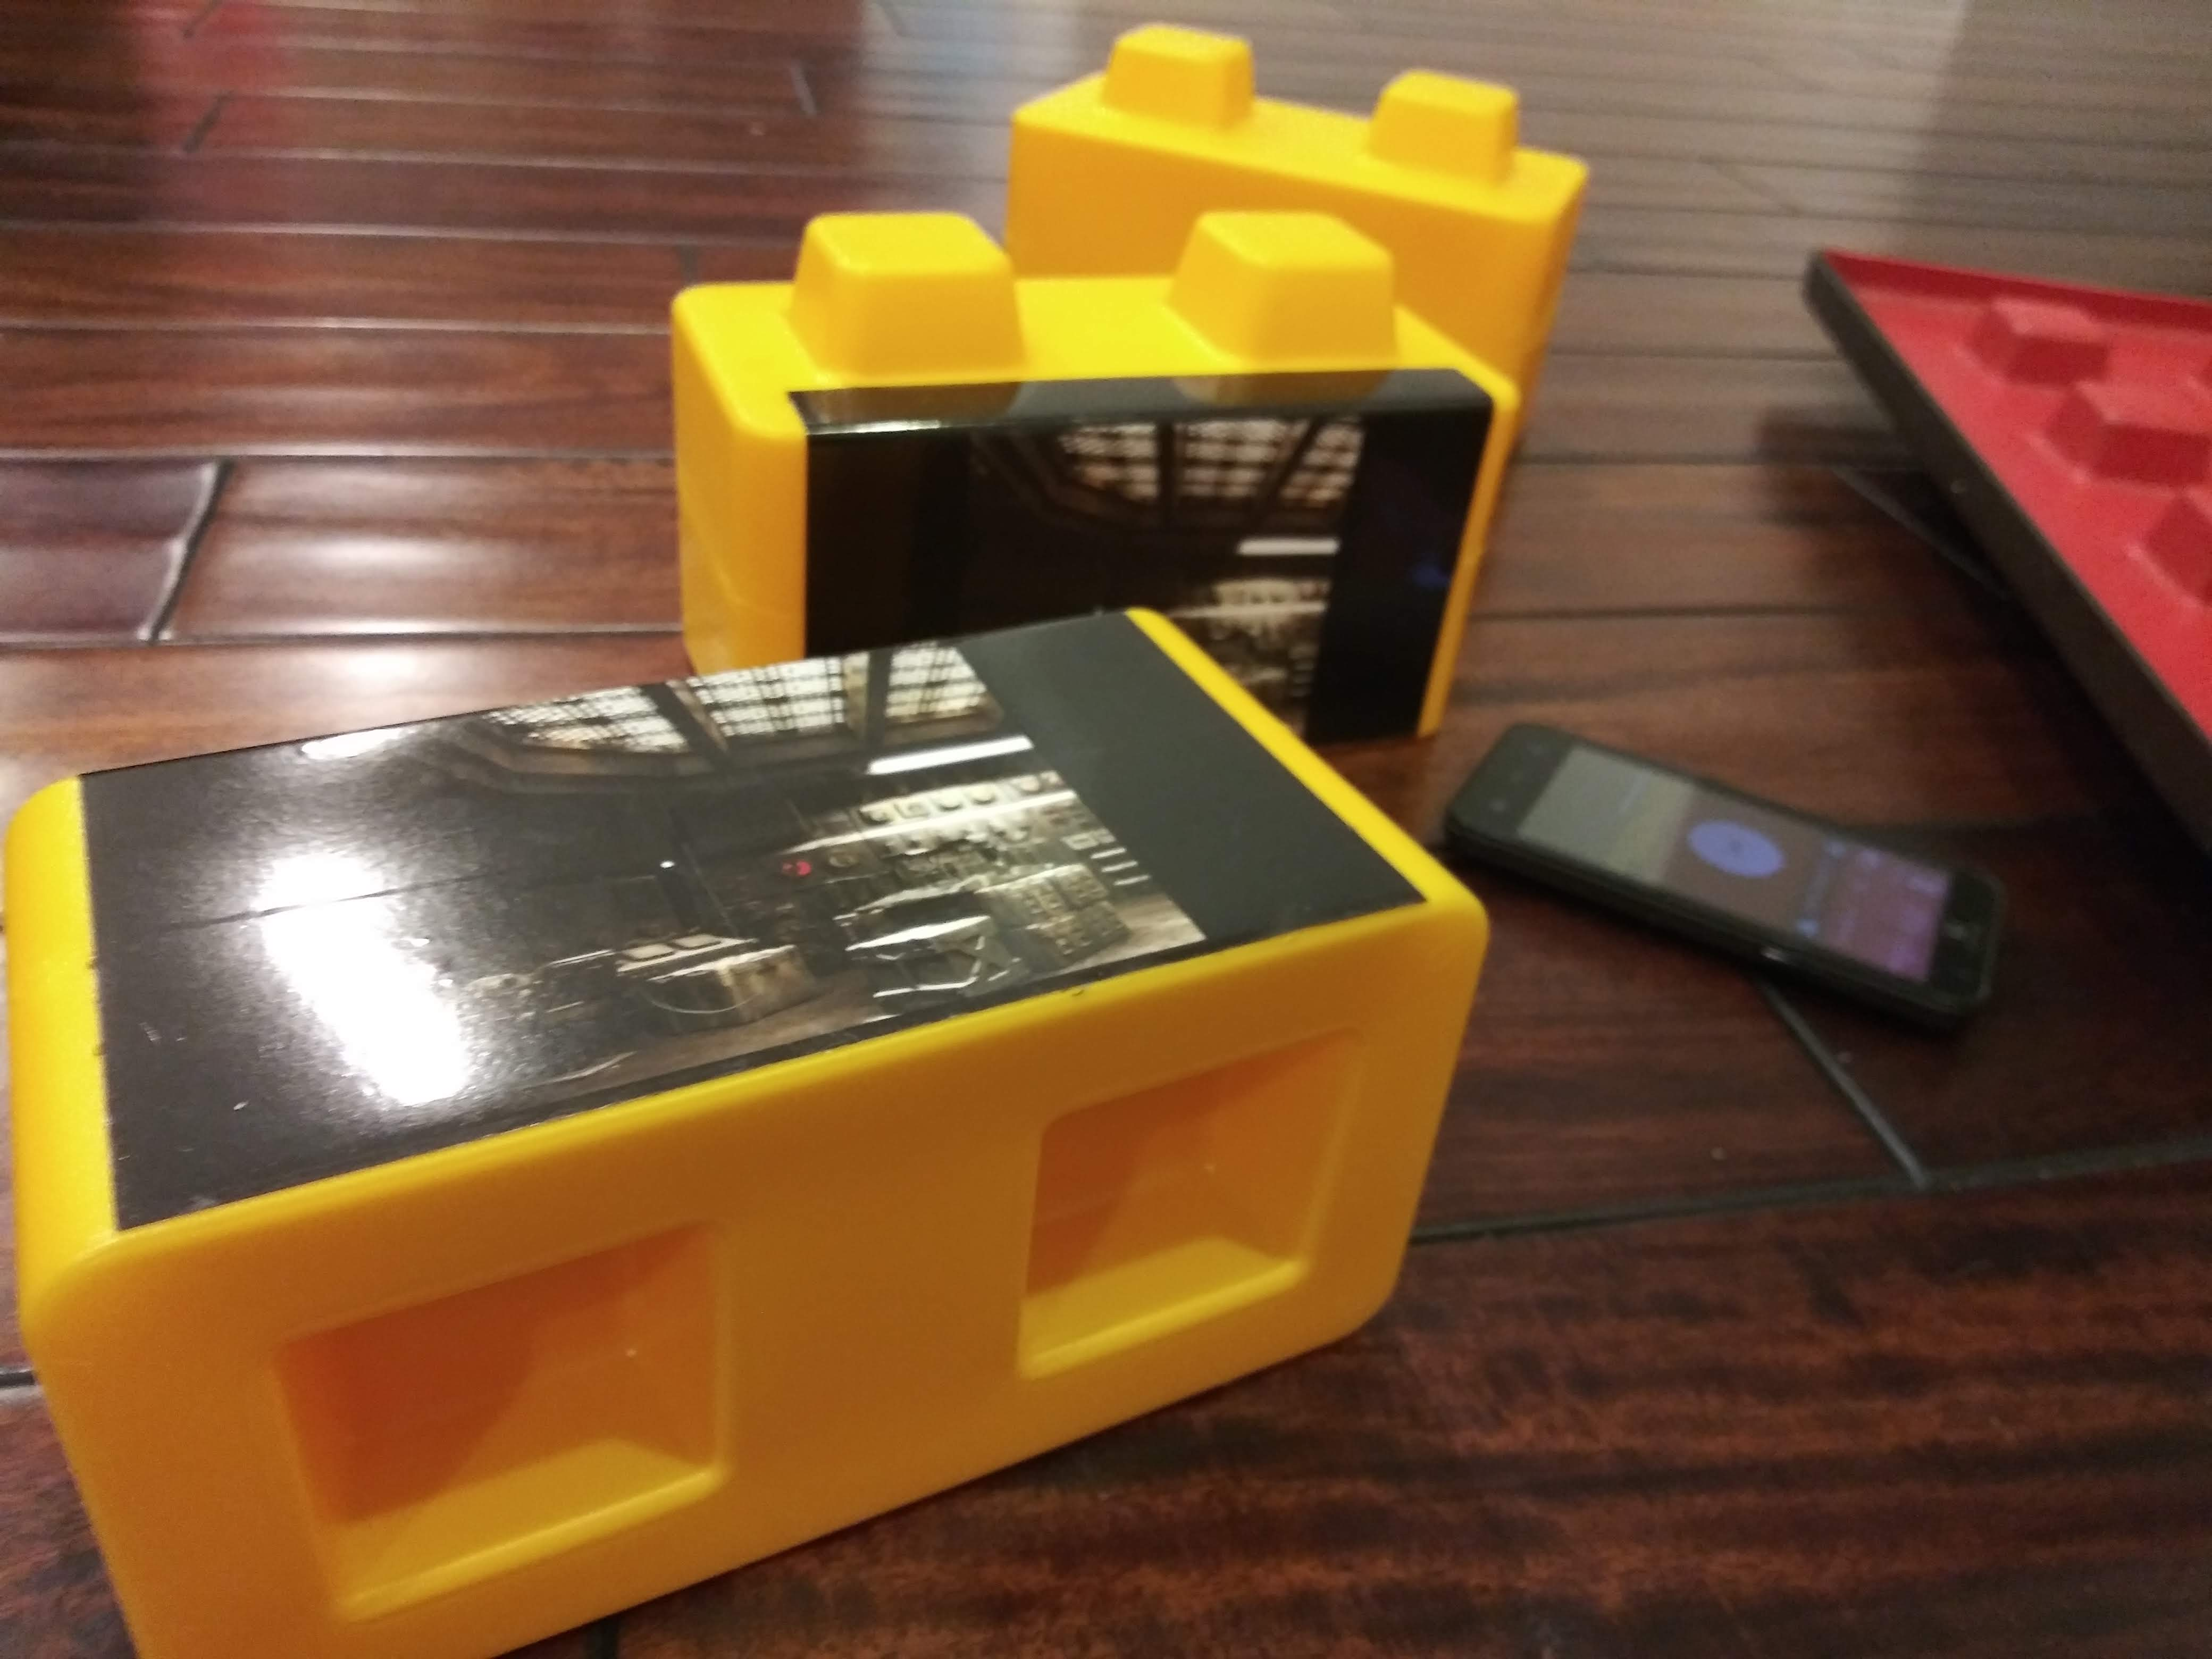skystone: (77, 755, 1355, 1417), (704, 322, 1418, 704)
stone: (1014, 68, 1568, 303)
